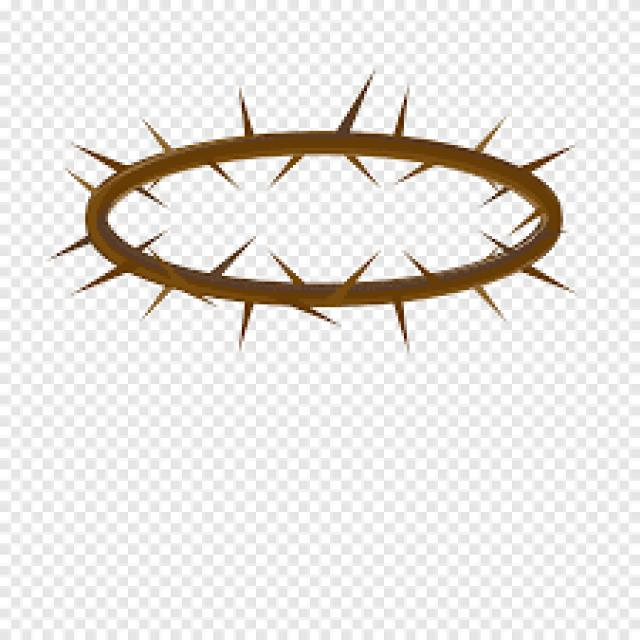crown: (48, 87, 592, 366)
